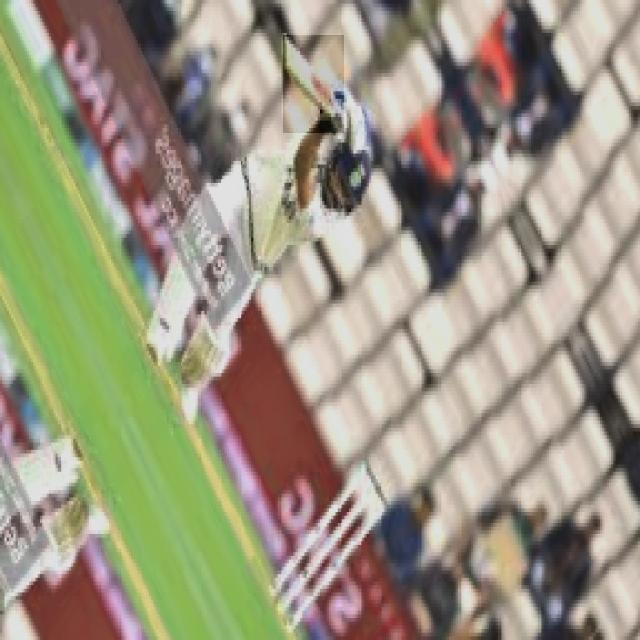bat: (287, 34, 349, 133)
toe: (280, 30, 295, 71)
